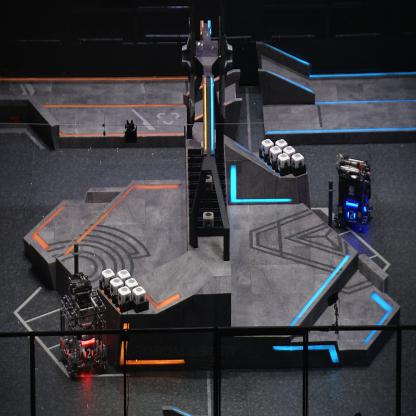car: (60, 274, 108, 378), (334, 152, 373, 233)
